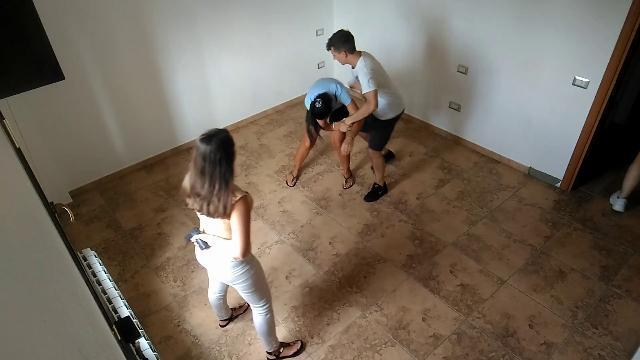non-violence: (182, 126, 310, 360), (611, 154, 640, 213)
violence: (284, 30, 406, 204)
weapon: (185, 230, 208, 252)
